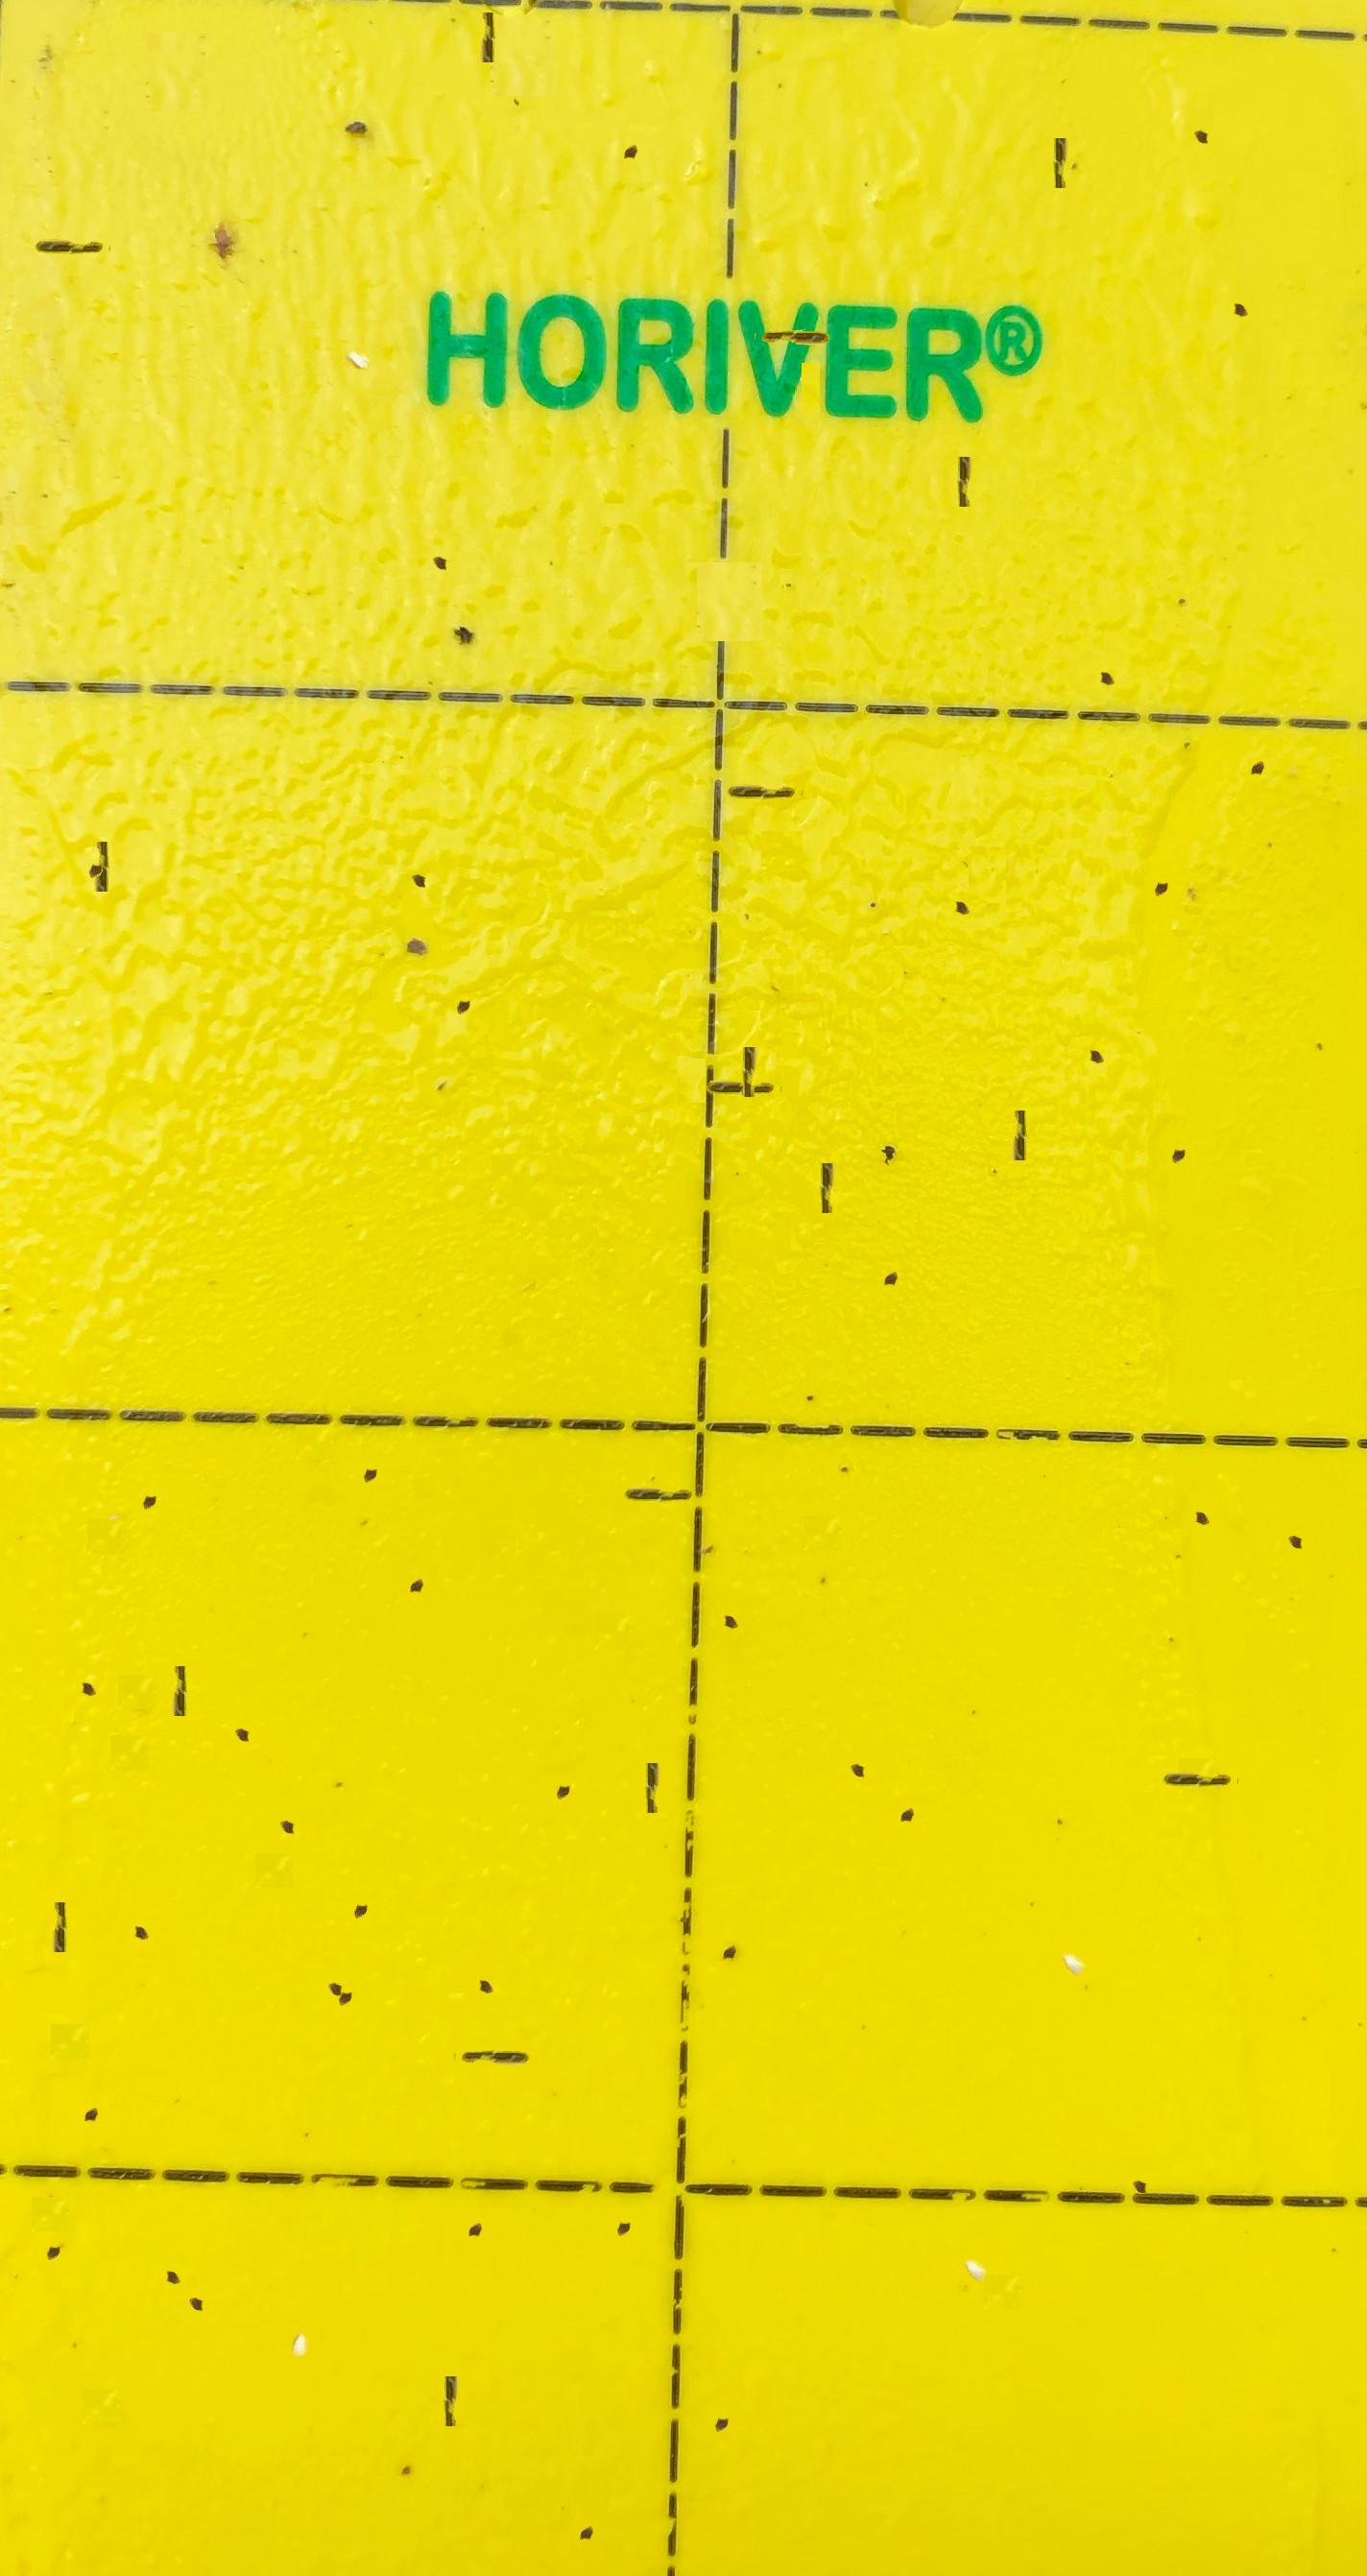white_fly: (339, 291, 382, 336), (1053, 1900, 1096, 1944), (955, 2206, 997, 2249), (278, 2290, 319, 2327)
